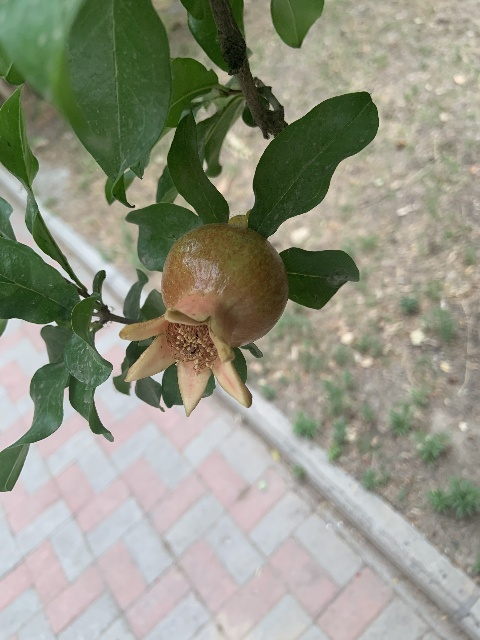early-fruit: (118, 222, 289, 417)
